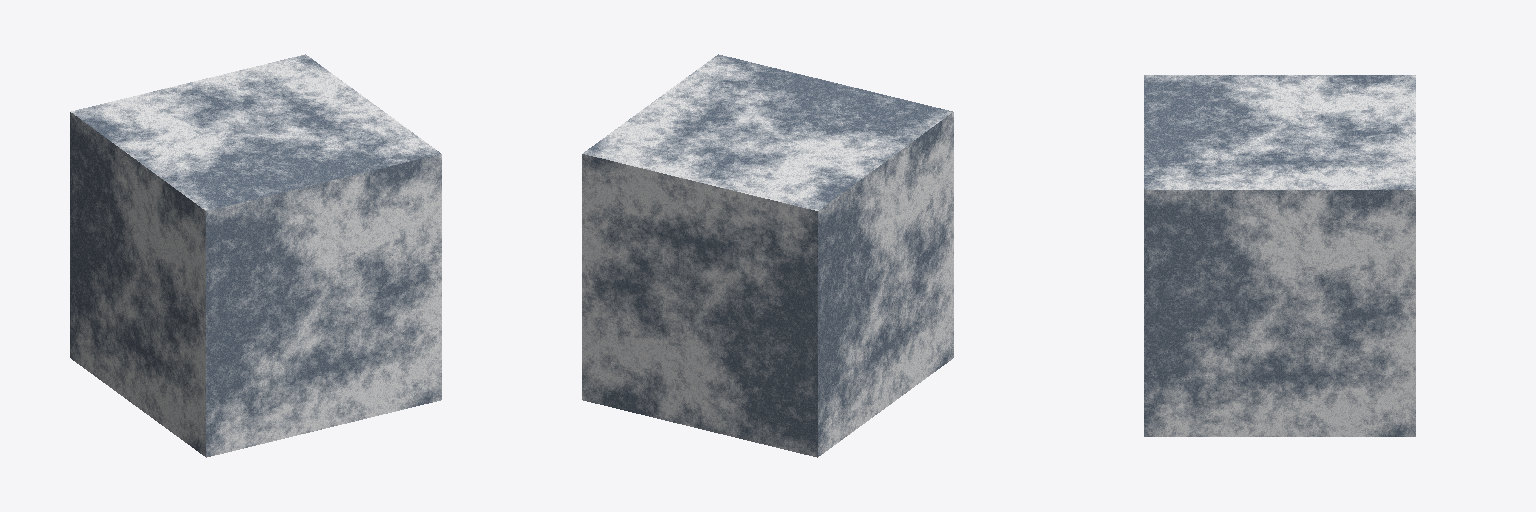
3 renders of one model, left to right at view 1: azimuth 30°, elevation 25°; view 2: azimuth 150°, elevation 25°; view 3: azimuth 270°, elevation 25°, orthographic.
Visible parts, largest first — view 1: Cube; view 2: Cube; view 3: Cube.
Part boxes in pixels (left/top/right/bottom): Cube: left=70, top=54, right=441, bottom=457; Cube: left=582, top=54, right=953, bottom=457; Cube: left=1144, top=75, right=1415, bottom=436.
Size of the model in its own units: 2 by 2 by 2.
Materials: 1 (1 with a texture image).